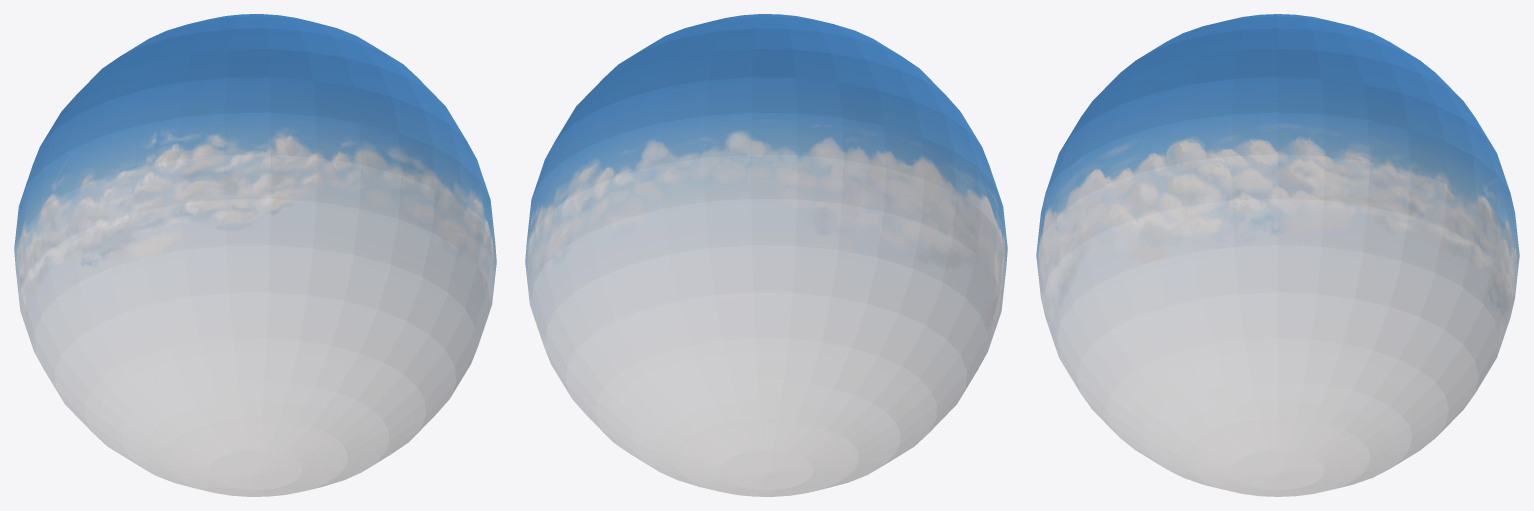
Rendered from castle.glb.
3 renders of one model, left to right at view 1: azimuth 30°, elevation 25°; view 2: azimuth 150°, elevation 25°; view 3: azimuth 270°, elevation 25°, orthographic.
Parts seen in each view (by area): view 1: Skybox, Skybox.001; view 2: Skybox, Skybox.001; view 3: Skybox, Skybox.001.
Boxes of the visible parts, <box> form: Skybox: <box>14,14,496,496</box>; Skybox.001: <box>16,114,494,349</box>; Skybox: <box>525,14,1007,496</box>; Skybox.001: <box>527,114,1005,349</box>; Skybox: <box>1036,14,1519,496</box>; Skybox.001: <box>1038,114,1517,354</box>.
Size of the model in its own units: 6.45 by 6.45 by 6.45.
Materials: 3 (2 with a texture image).
